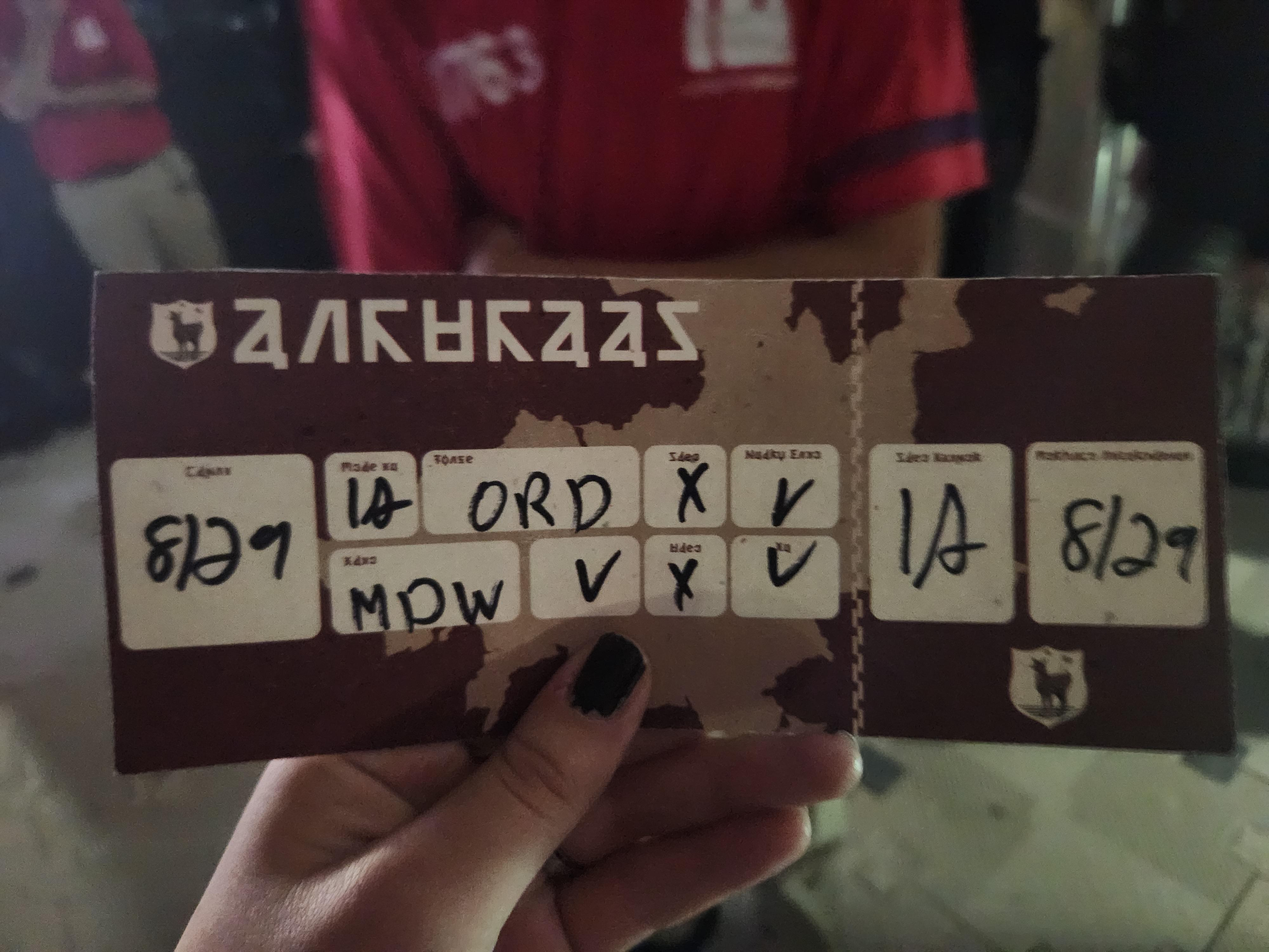A: (223, 290, 293, 376), (534, 297, 594, 373), (596, 298, 655, 374)
D: (416, 291, 481, 372)
G: (649, 296, 704, 370)
I: (291, 294, 361, 380)
R: (351, 292, 422, 378), (481, 294, 539, 370)
